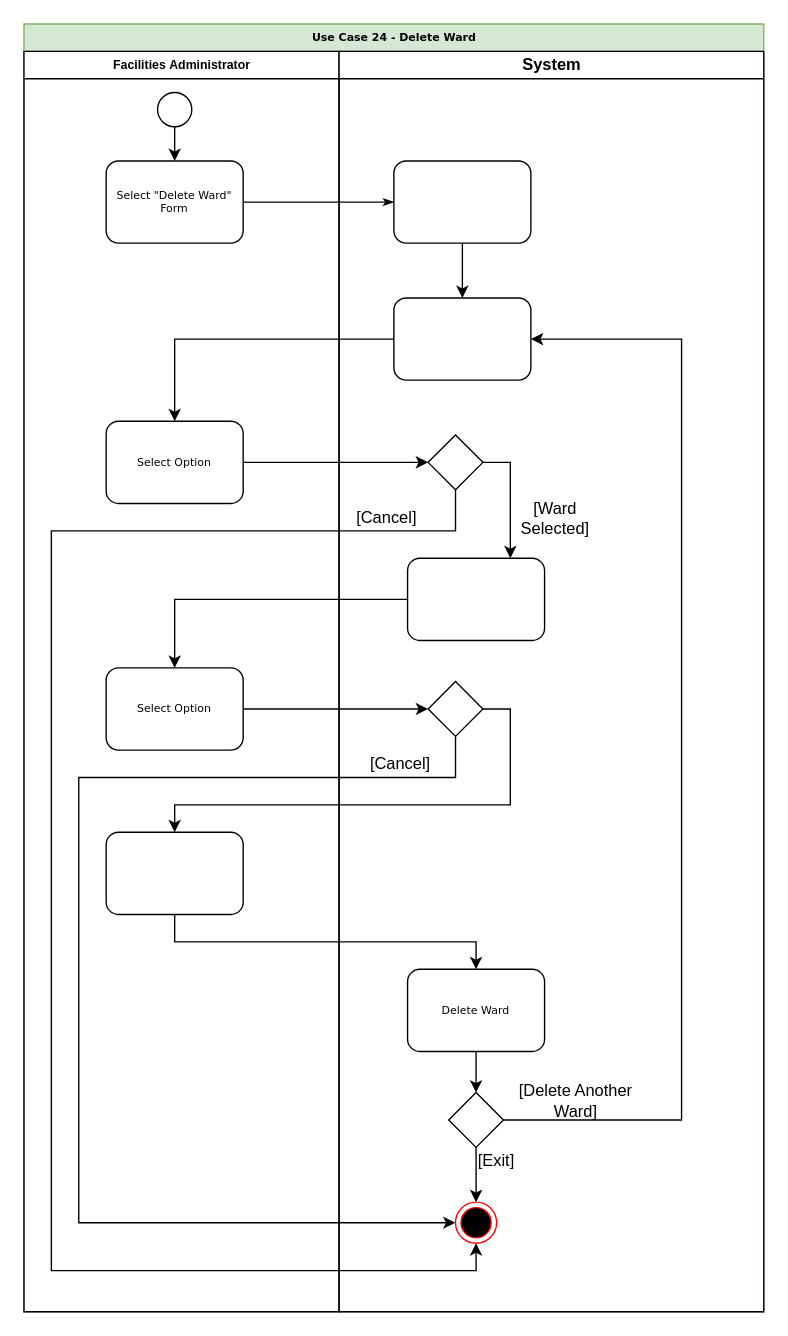
This 788x1336 diagram has some shape labels left out. Here are the shapes that lost their labels. From the top down, the centre of each, then its label:
point (462, 201): Display "Delete Ward" Form
point (462, 338): Display List of Wards
point (475, 598): Display Ward Details
point (174, 872): Click on "Delete Ward" Button
